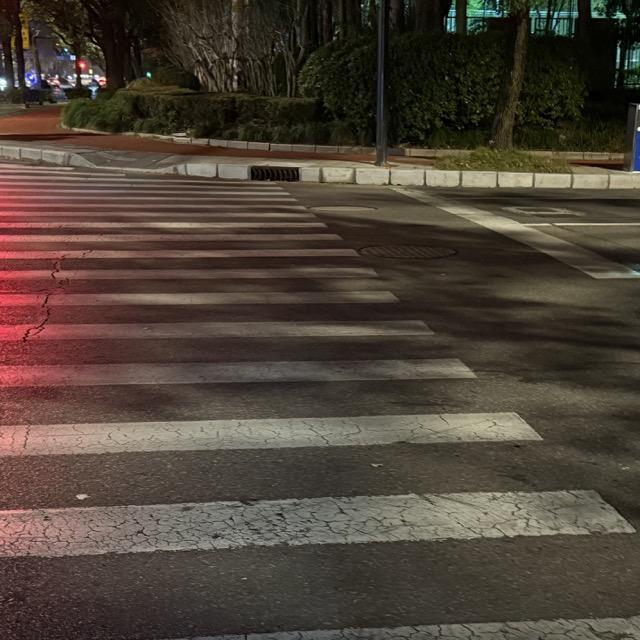curb: (2, 144, 640, 189), (120, 132, 371, 152), (523, 150, 623, 164), (399, 148, 474, 159), (63, 128, 111, 134)
